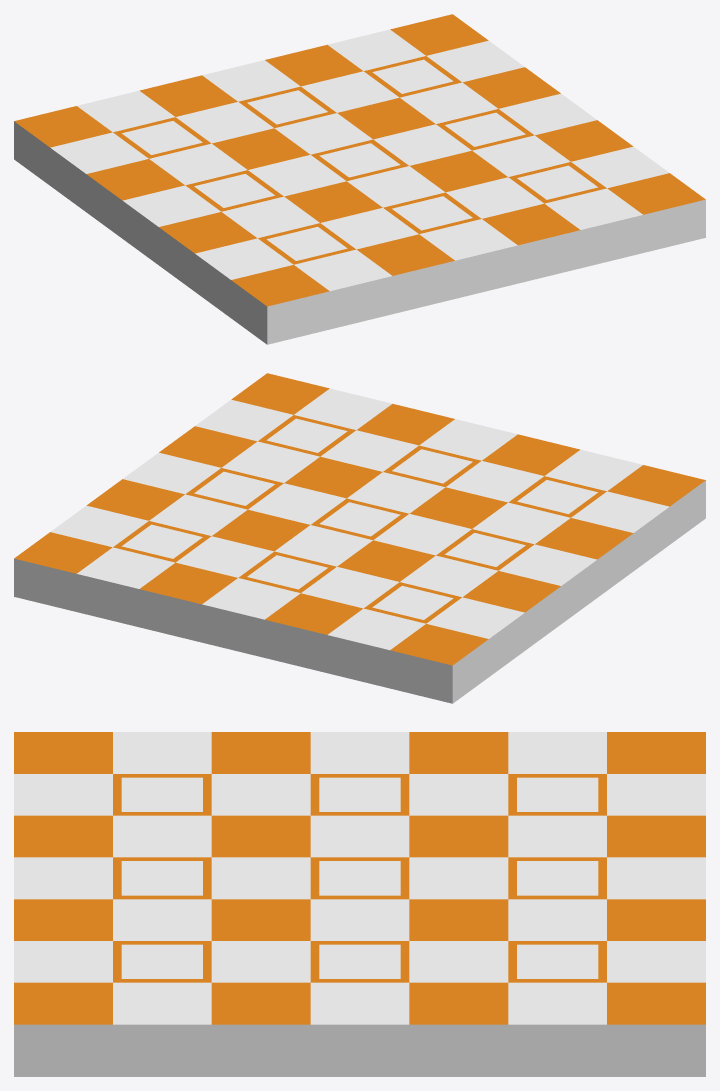
File: checkeredwhite.obj
The picture shows the model from 3 angles, top to bottom: view 1: azimuth 30°, elevation 25°; view 2: azimuth 150°, elevation 25°; view 3: azimuth 270°, elevation 25°; orthographic projection. The views are drawn at different scales.
Visible parts, largest first — view 1: citytileswhite_Plane.011; view 2: citytileswhite_Plane.011; view 3: citytileswhite_Plane.011.
Part boxes in pixels (bbox=[...]): citytileswhite_Plane.011: bbox=[14, 14, 705, 344]; citytileswhite_Plane.011: bbox=[14, 373, 705, 703]; citytileswhite_Plane.011: bbox=[14, 732, 705, 1076].
Size of the model in its own units: 12 by 1 by 12.
Materials: 1 (1 with a texture image).
